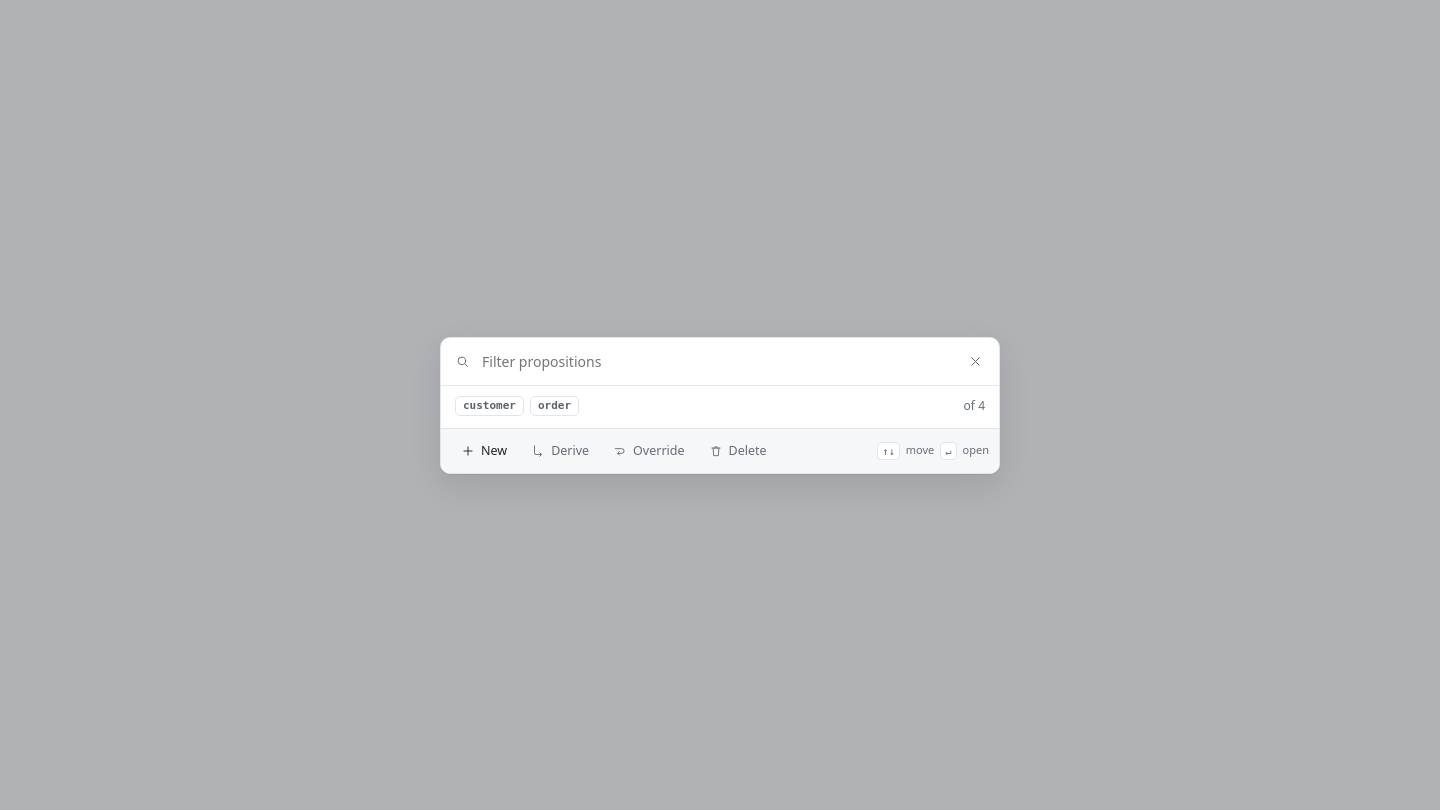
Test case: PropositionExplorer › shows the namespace a match came from, so two leaves of a name stay apart
The image size is (1440, 810).
Step 1. Type "is-fraudulent" into the dropdown → (732, 361), box [480,350,985,372]
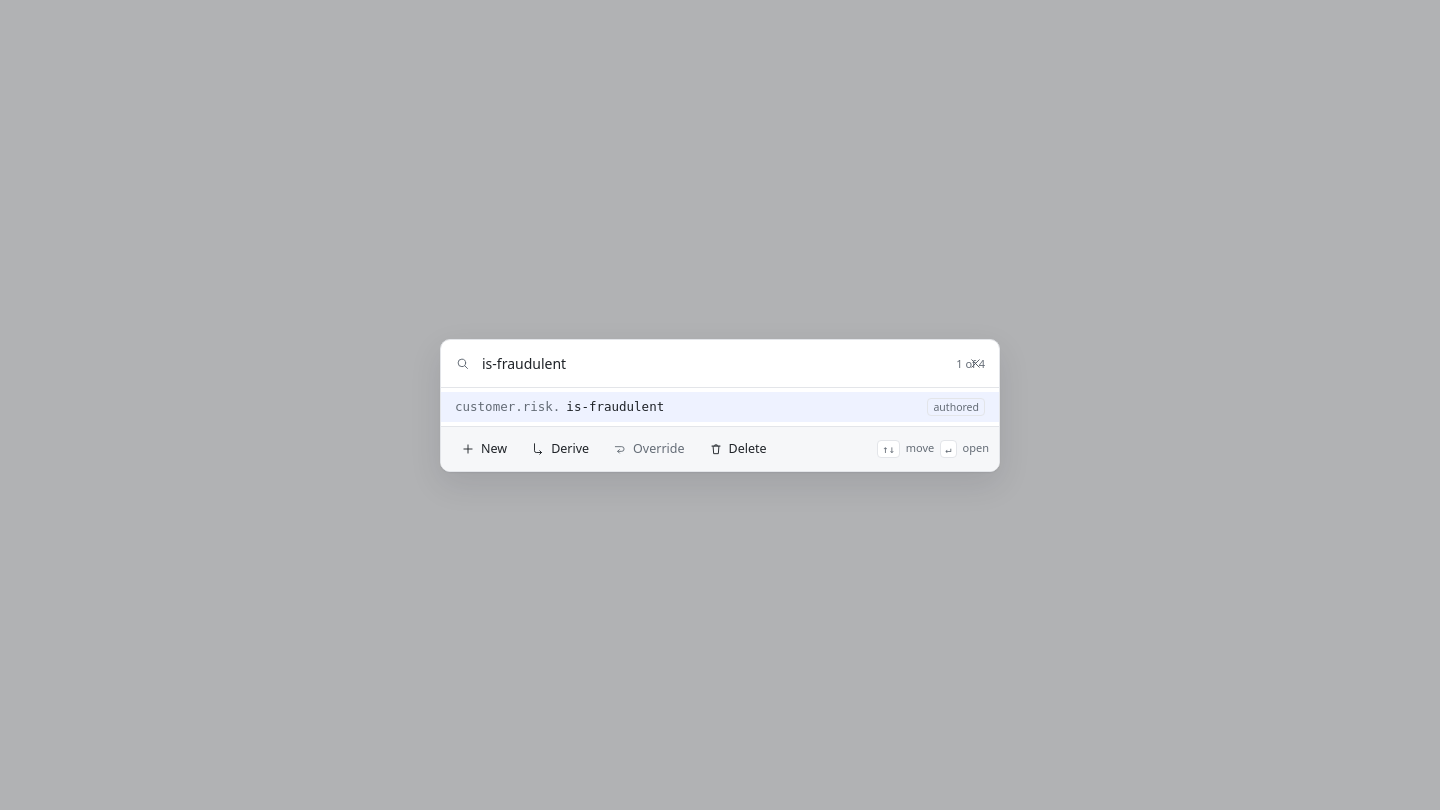
Result: the option shows "customer.risk." at [441,392,999,422]
